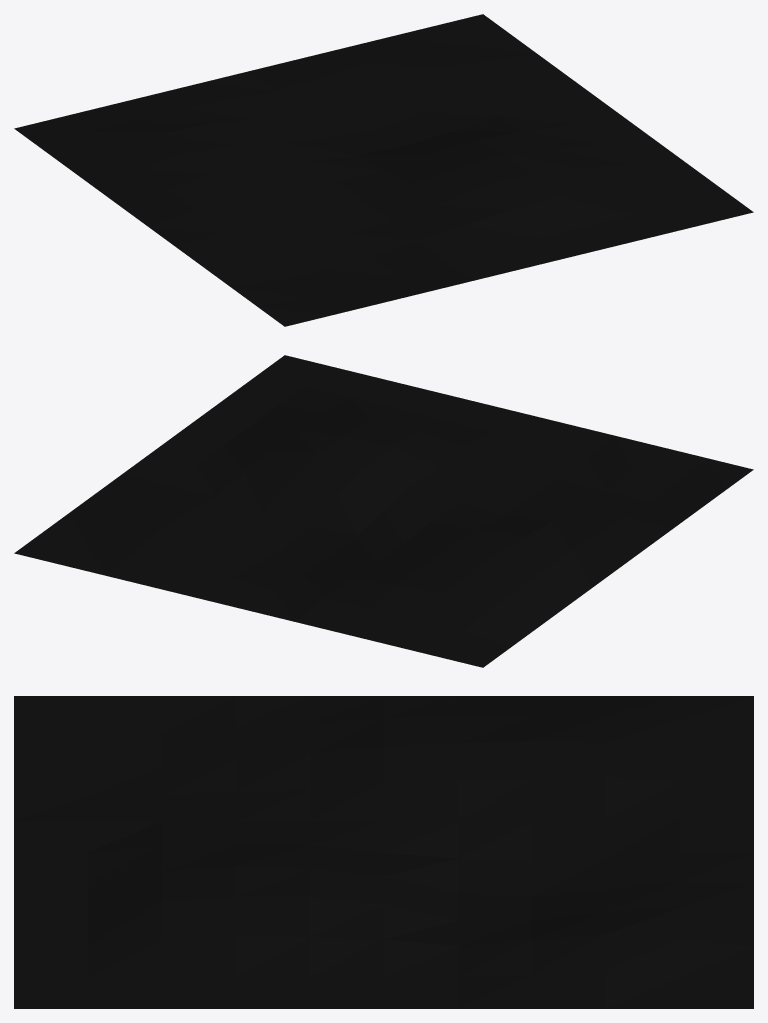
File: tile_0.obj
3 views of the same model, one above another, from view 1: azimuth 30°, elevation 25°; view 2: azimuth 150°, elevation 25°; view 3: azimuth 270°, elevation 25° (orthographic). The views are drawn at different scales.
Parts seen in each view (by area): view 1: Plane; view 2: Plane; view 3: Plane.
Part boxes in pixels (left/top/right/bottom): Plane: left=14, top=14, right=753, bottom=326; Plane: left=14, top=355, right=753, bottom=667; Plane: left=14, top=696, right=753, bottom=1008.
Bounding box in the file's own units: 100 × 4.61 × 100.
